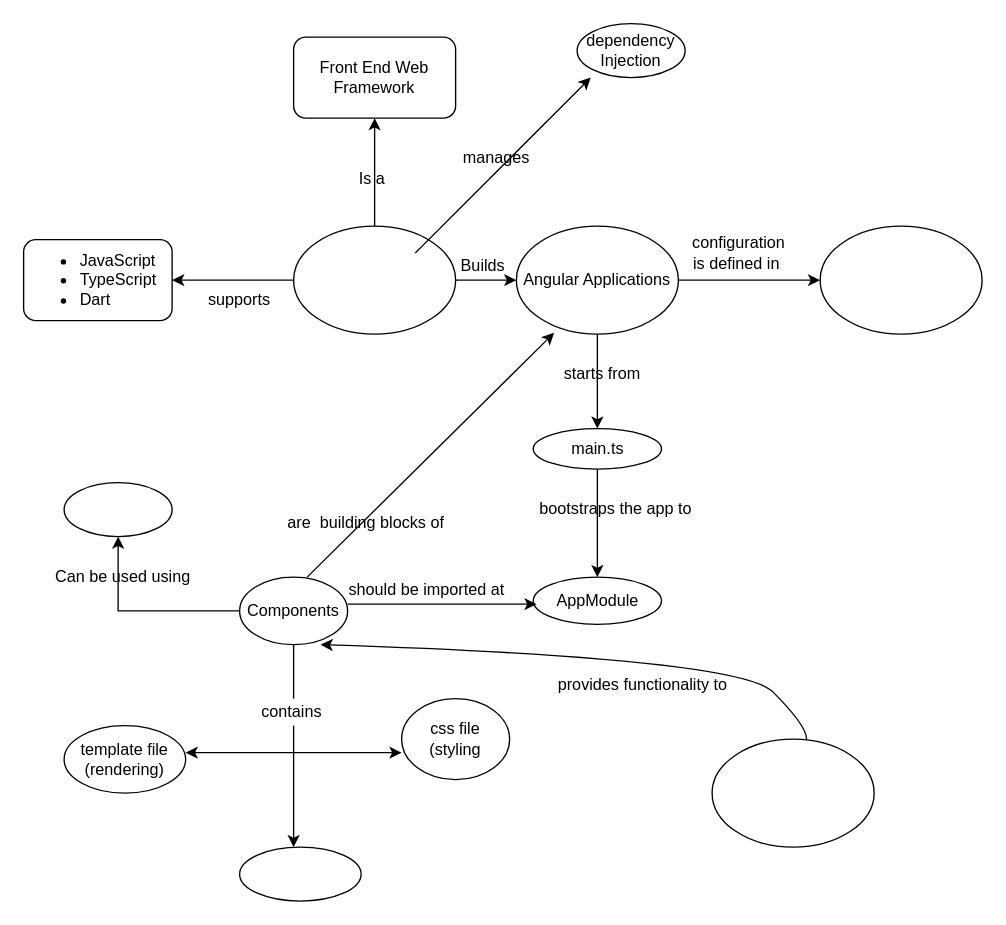
This 1006x925 diagram has some shape labels left out. The shapes that lost their labels are listed below. From the top down, each one's centre as x and y in pixels, then its label:
the point at 374,279: Angular
the point at 900,279: angular.json
the point at 117,509: Selectors
the point at 792,792: Service Class
the point at 299,873: ts file (controller)
